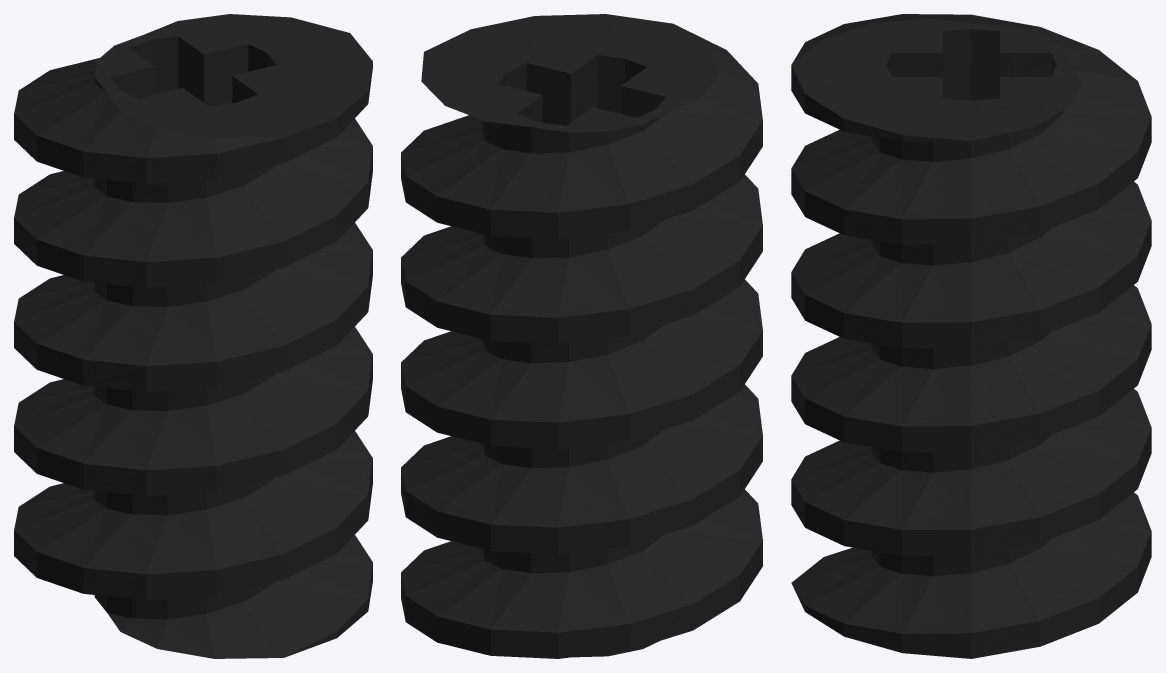
File: worm.dae
3 views of the same model, side by side, from view 1: azimuth 30°, elevation 25°; view 2: azimuth 150°, elevation 25°; view 3: azimuth 270°, elevation 25° (orthographic).
Parts seen in each view (by area): view 1: node; view 2: node; view 3: node.
Boxes of the visible parts, x1,y1,x2,y2 form: node: (14, 14, 372, 658); node: (401, 14, 762, 658); node: (791, 14, 1151, 658).
Bounding box in the file's own units: 24.9 × 39.5 × 24.9.
1 material, 1 textured.
